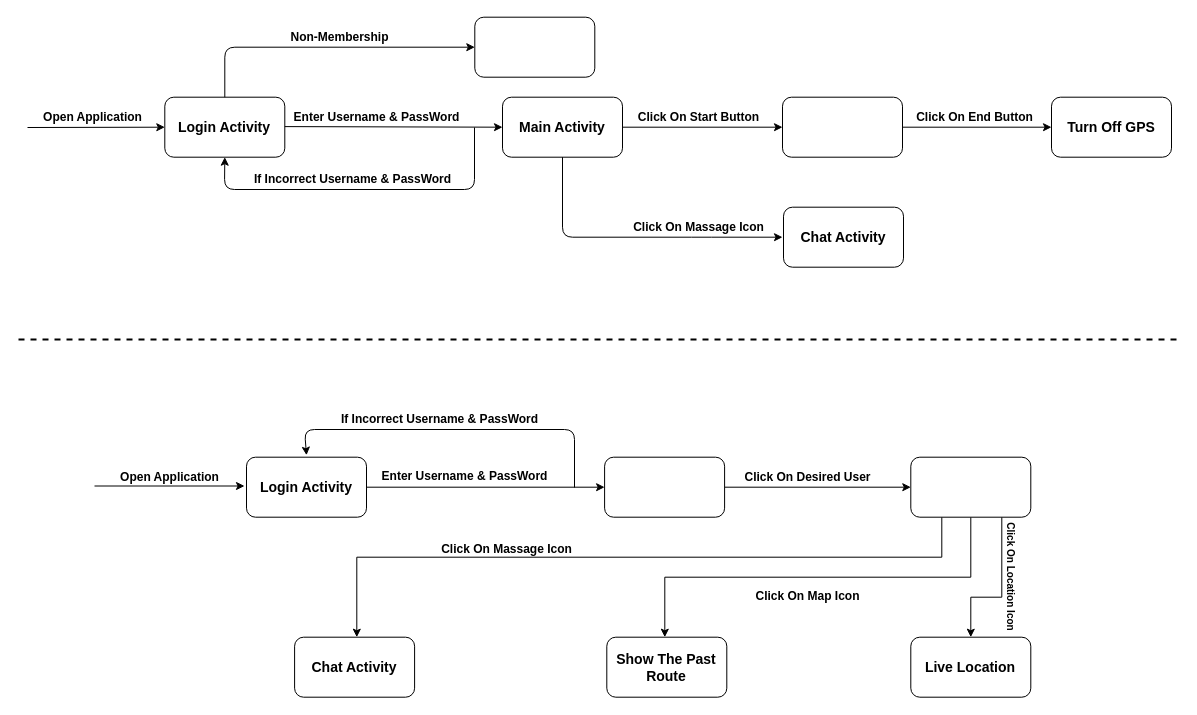
This 1197x715 diagram has some shape labels left out. Each missing label, with the box of its shape:
Turn On GPS: (782, 96, 902, 157)
User Information: (910, 456, 1031, 517)
User List: (604, 456, 725, 517)
Visit The Company: (474, 16, 595, 77)
